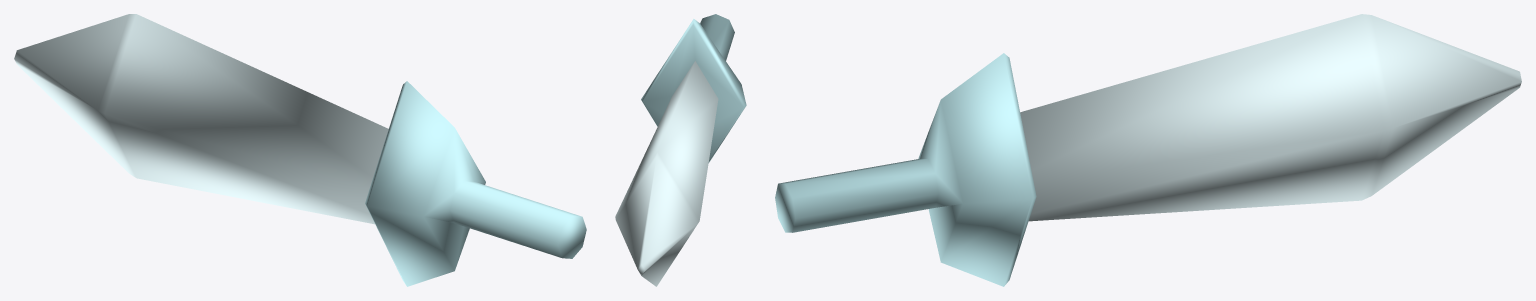
File: sword_mid.glb
3 views of the same model, side by side, from view 1: azimuth 30°, elevation 25°; view 2: azimuth 150°, elevation 25°; view 3: azimuth 270°, elevation 25° (orthographic). The views are drawn at different scales.
Visible parts, largest first — view 1: sword.002; view 2: sword.002; view 3: sword.002.
Boxes of the visible parts, <box> form: sword.002: <box>14,14,586,286</box>; sword.002: <box>615,14,746,286</box>; sword.002: <box>775,14,1521,286</box>.
Bounding box in the file's own units: 0.4083 × 0.3158 × 0.9134.
Materials: 1 (1 with a texture image).
